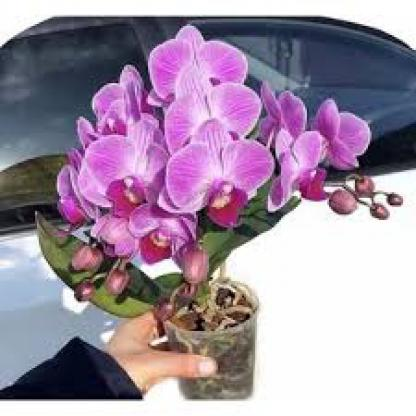ANGGREK: (55, 31, 399, 334)
